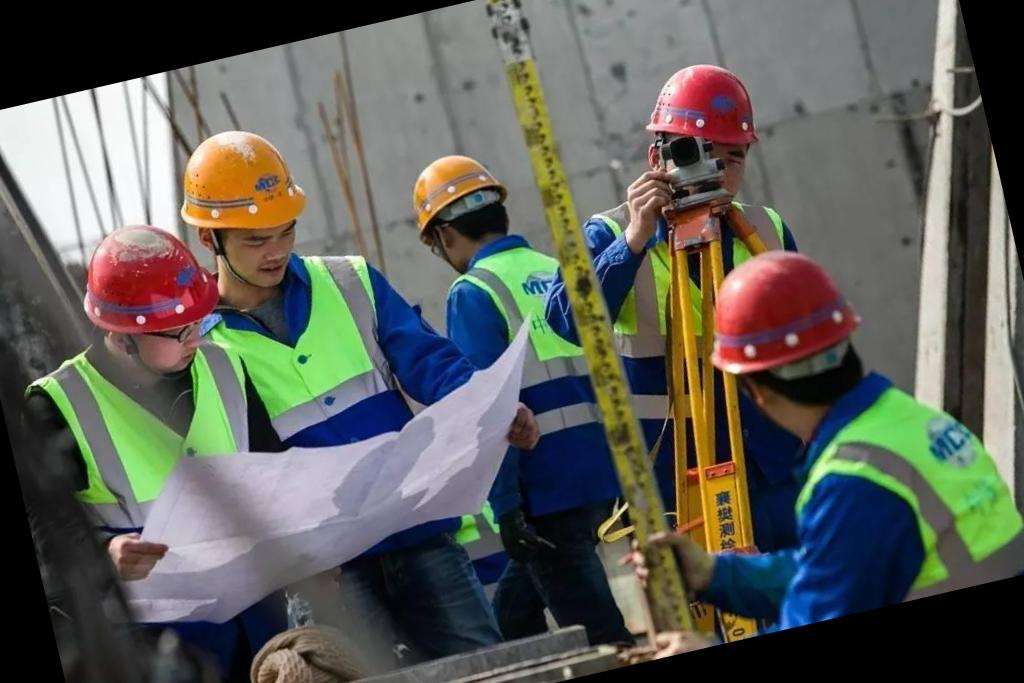Vest: (793, 359, 1024, 615), (206, 244, 422, 461), (42, 330, 270, 516)
